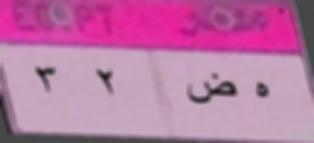2: (90, 64, 123, 99)
3: (29, 62, 68, 97)
daad: (184, 69, 238, 112)
haa: (250, 73, 275, 105)
